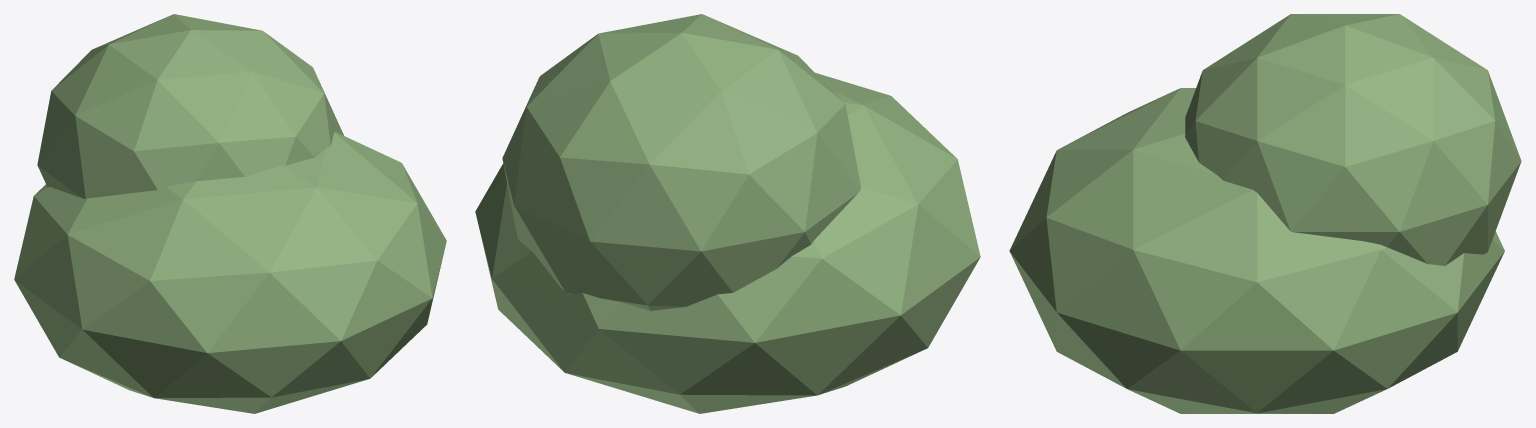
Rendered from beanbag_sage.glb.
The picture shows the model from 3 angles, left to right: view 1: azimuth 30°, elevation 25°; view 2: azimuth 150°, elevation 25°; view 3: azimuth 270°, elevation 25°; orthographic projection. The views are drawn at different scales.
Parts seen in each view (by area): view 1: beanbag_sage; view 2: beanbag_sage; view 3: beanbag_sage.
Boxes of the visible parts, bbox=[...] form: beanbag_sage: bbox=[14, 14, 446, 413]; beanbag_sage: bbox=[475, 14, 980, 413]; beanbag_sage: bbox=[1009, 14, 1521, 413].
Bounding box in the file's own units: 0.856 × 0.731 × 0.93.
